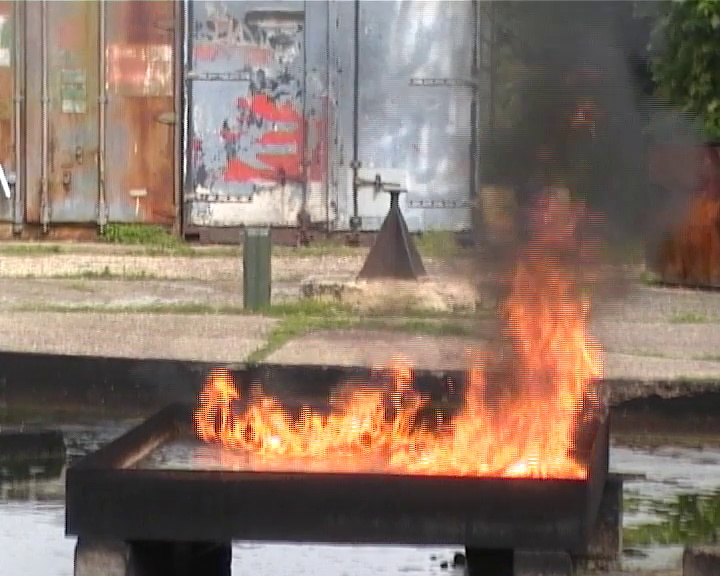fire: (193, 267, 603, 479)
